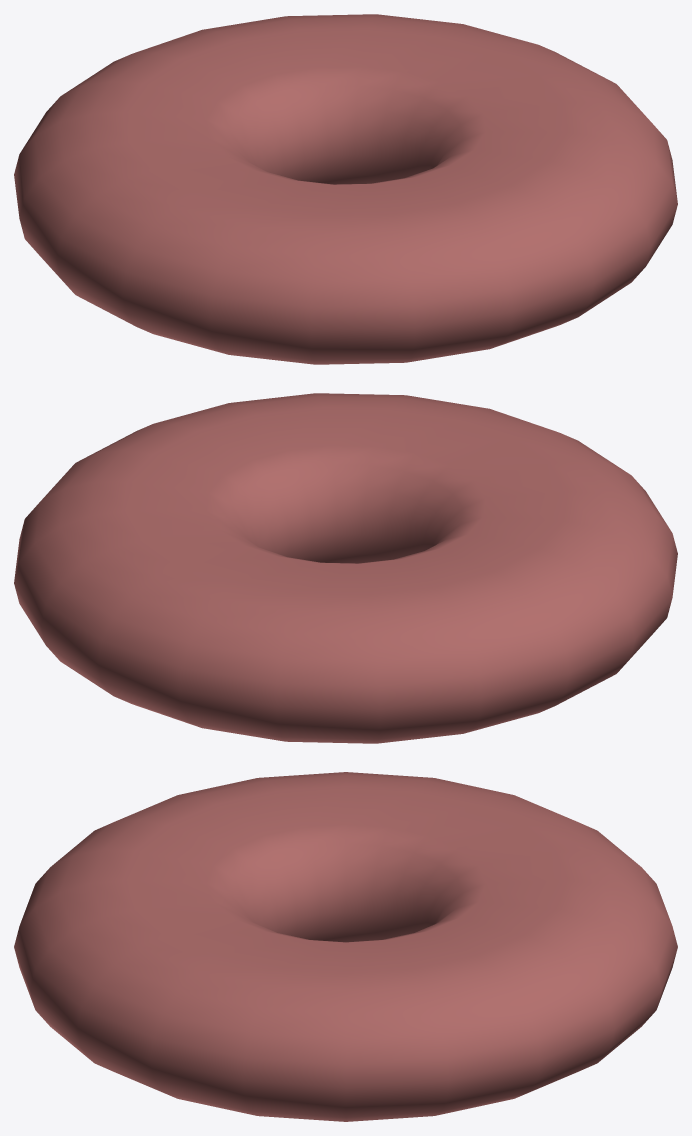
File: TorusToy1.fbx
3 views of the same model, one above another, from view 1: azimuth 30°, elevation 25°; view 2: azimuth 150°, elevation 25°; view 3: azimuth 270°, elevation 25° (orthographic).
Parts seen in each view (by area): view 1: torus2; view 2: torus2; view 3: torus2.
Boxes of the visible parts, x1,y1,x2,y2 form: torus2: (14,14,677,364); torus2: (14,393,677,743); torus2: (14,772,677,1121).
Size of the model in its own units: 2.14 by 0.4739 by 2.14.
